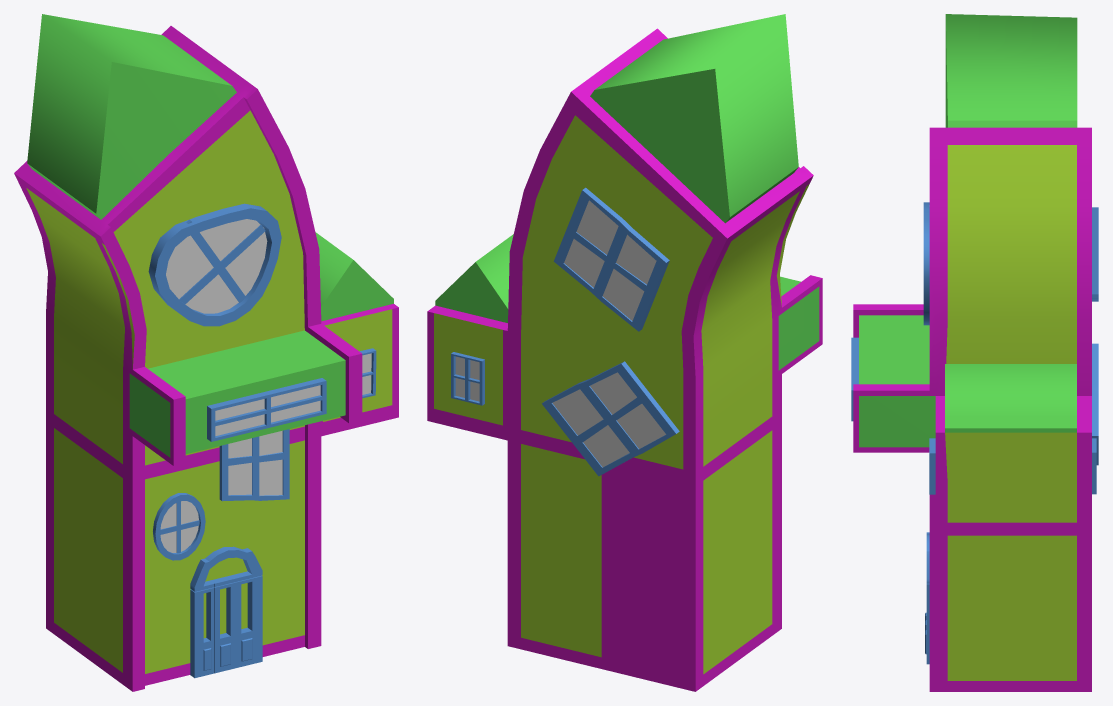
Rendered from Building2.fbx.
3 views of the same model, side by side, from view 1: azimuth 30°, elevation 25°; view 2: azimuth 150°, elevation 25°; view 3: azimuth 270°, elevation 25° (orthographic). The views are drawn at different scales.
Visible parts, largest first — view 1: building2; view 2: building2; view 3: building2.
Part boxes in pixels (x1,y1,x2,y2): building2: [14, 14, 398, 691]; building2: [427, 14, 822, 691]; building2: [851, 14, 1098, 691].
Bounding box in the file's own units: 38.81 × 77.13 × 29.47.
